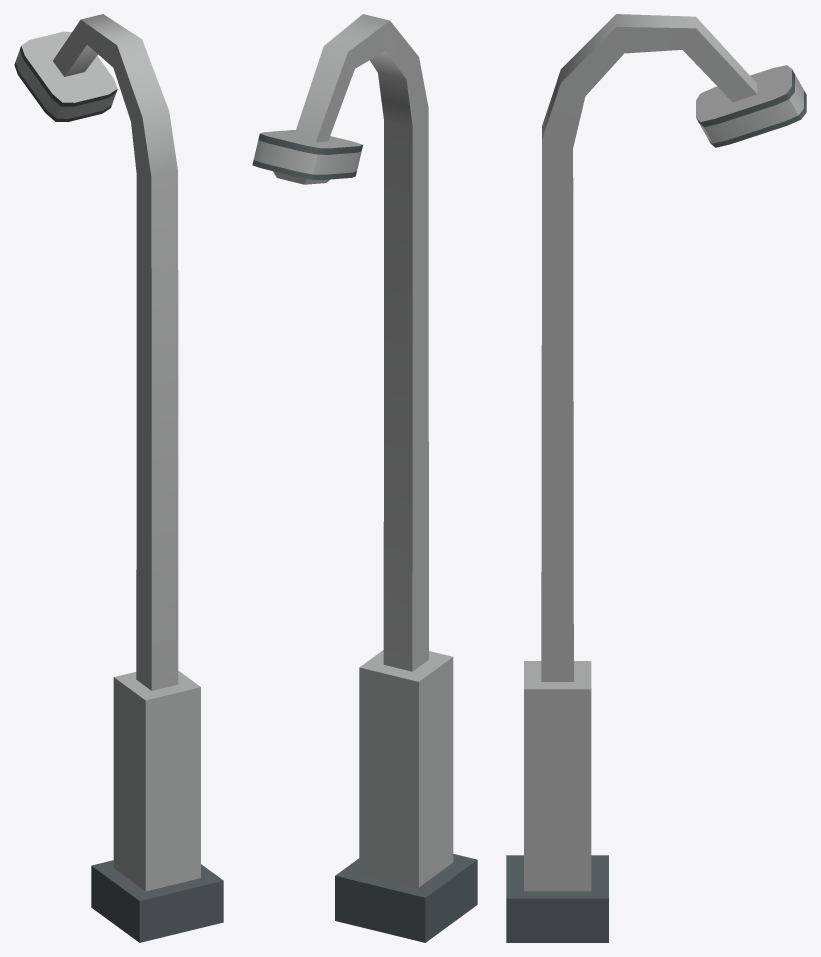
Rendered from street light1.FBX.
3 views of the same model, side by side, from view 1: azimuth 30°, elevation 25°; view 2: azimuth 150°, elevation 25°; view 3: azimuth 270°, elevation 25° (orthographic). The views are drawn at different scales.
Parts seen in each view (by area): view 1: street light1; view 2: street light1; view 3: street light1.
Part boxes in pixels (x1,y1,x2,y2): street light1: (14, 14, 223, 942); street light1: (252, 14, 477, 942); street light1: (506, 14, 806, 942).
Size of the model in its own units: 1.57 by 15.27 by 4.61.
